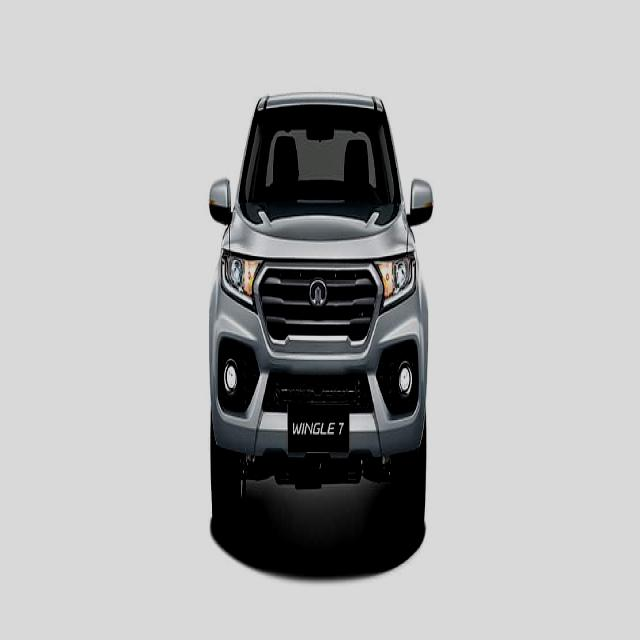CMT: (206, 84, 429, 565)
